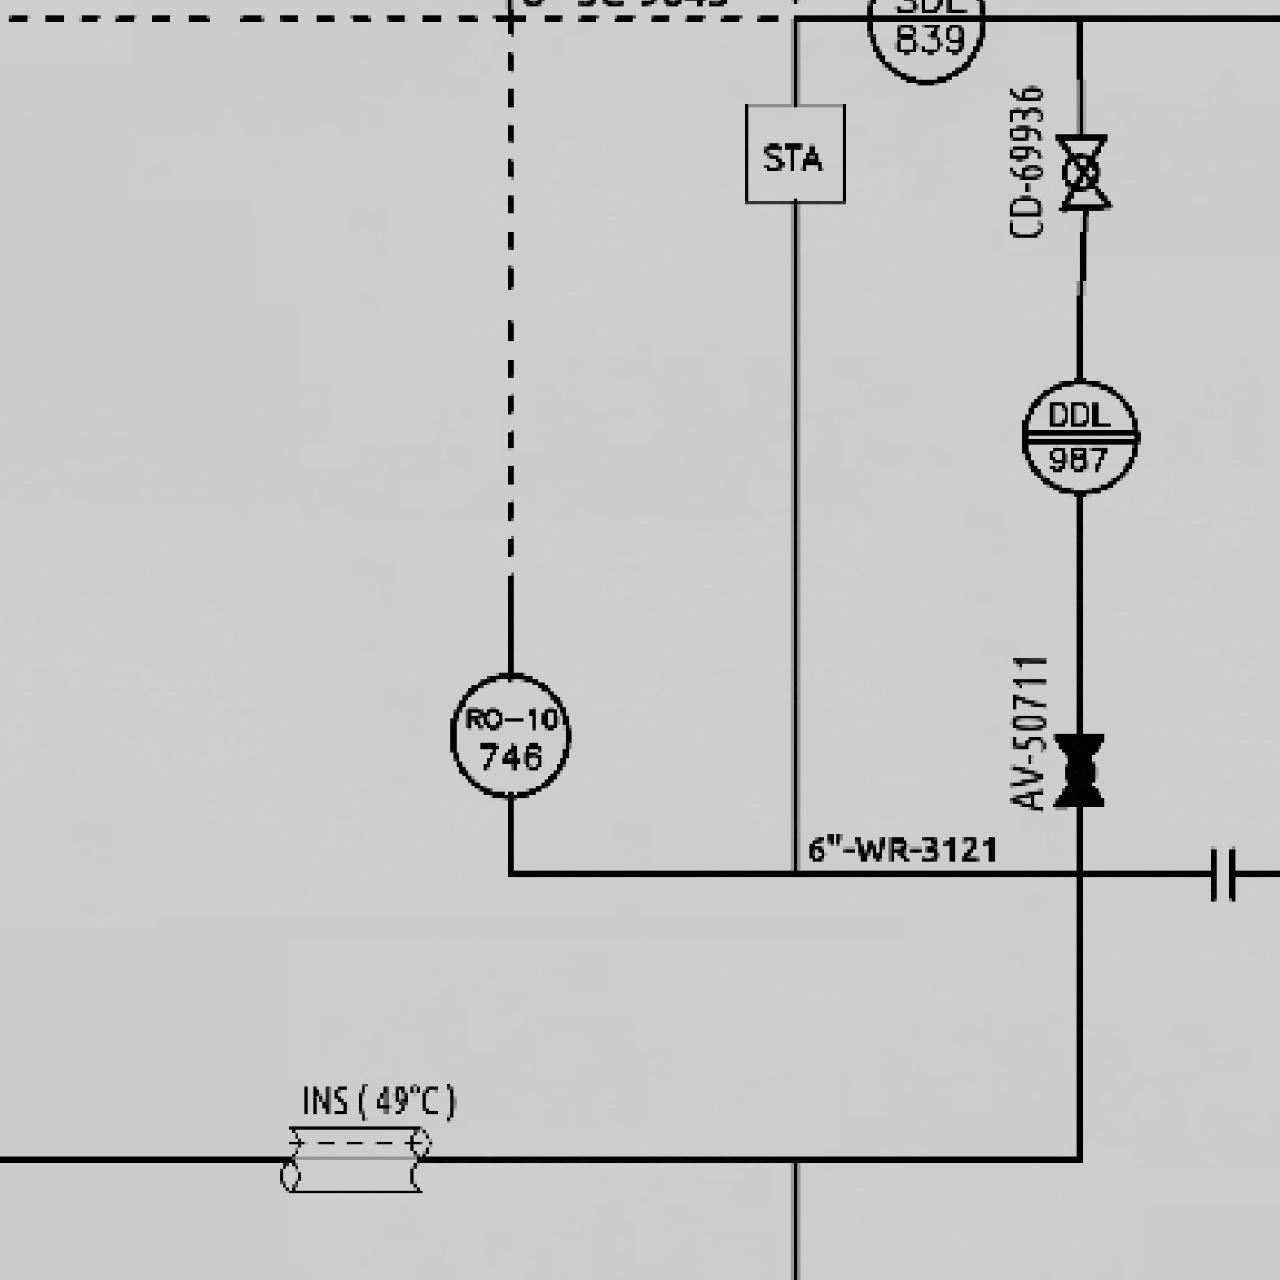Control-Panel: (442, 668, 576, 802), (1017, 372, 1142, 501)
